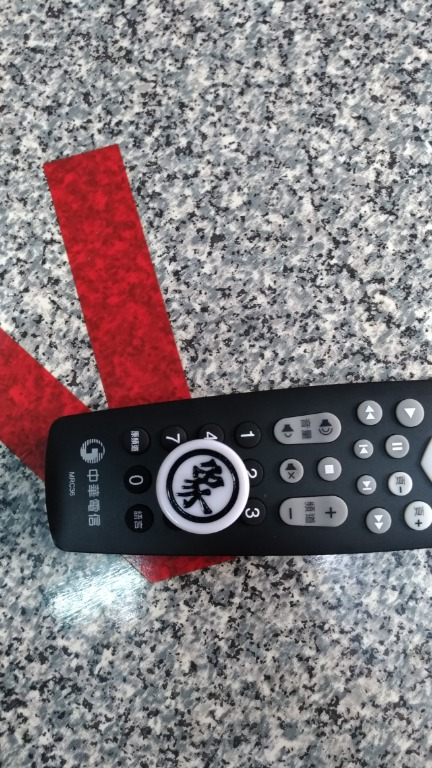b-elephant: (142, 429, 282, 553)
